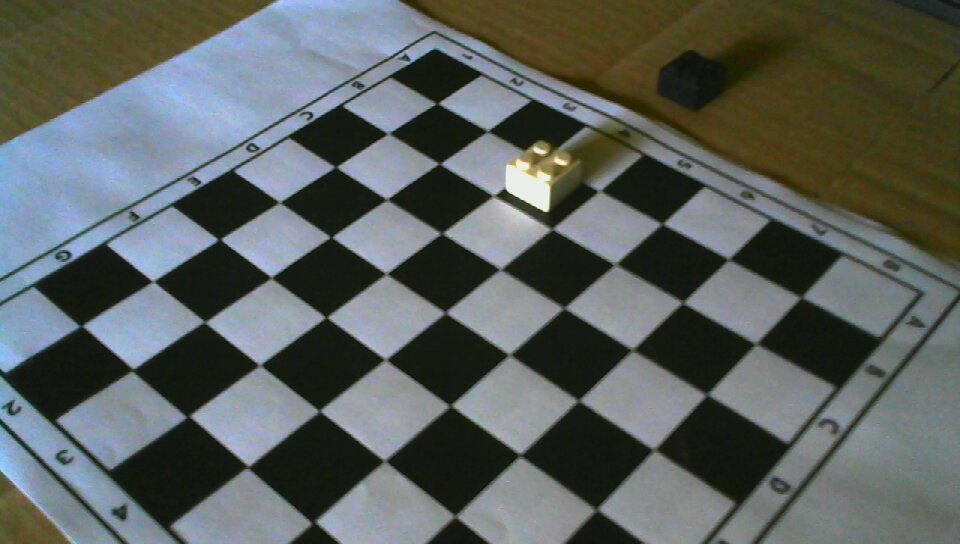bp: (655, 48, 727, 112)
wp: (505, 140, 582, 214)
